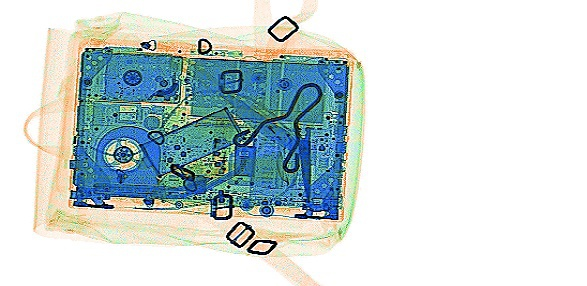knife: (163, 52, 301, 153)
scissors: (293, 122, 312, 200)
slingshot: (229, 79, 323, 173)
zippooil: (137, 104, 243, 178)
